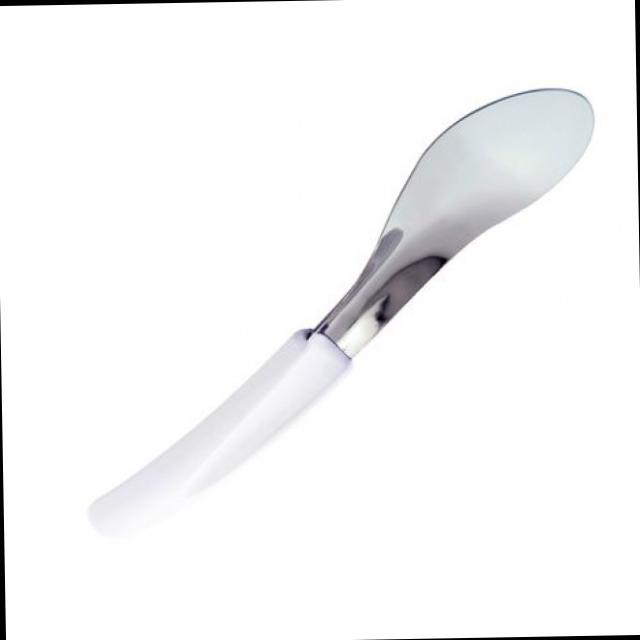spoon: (78, 68, 609, 544)
